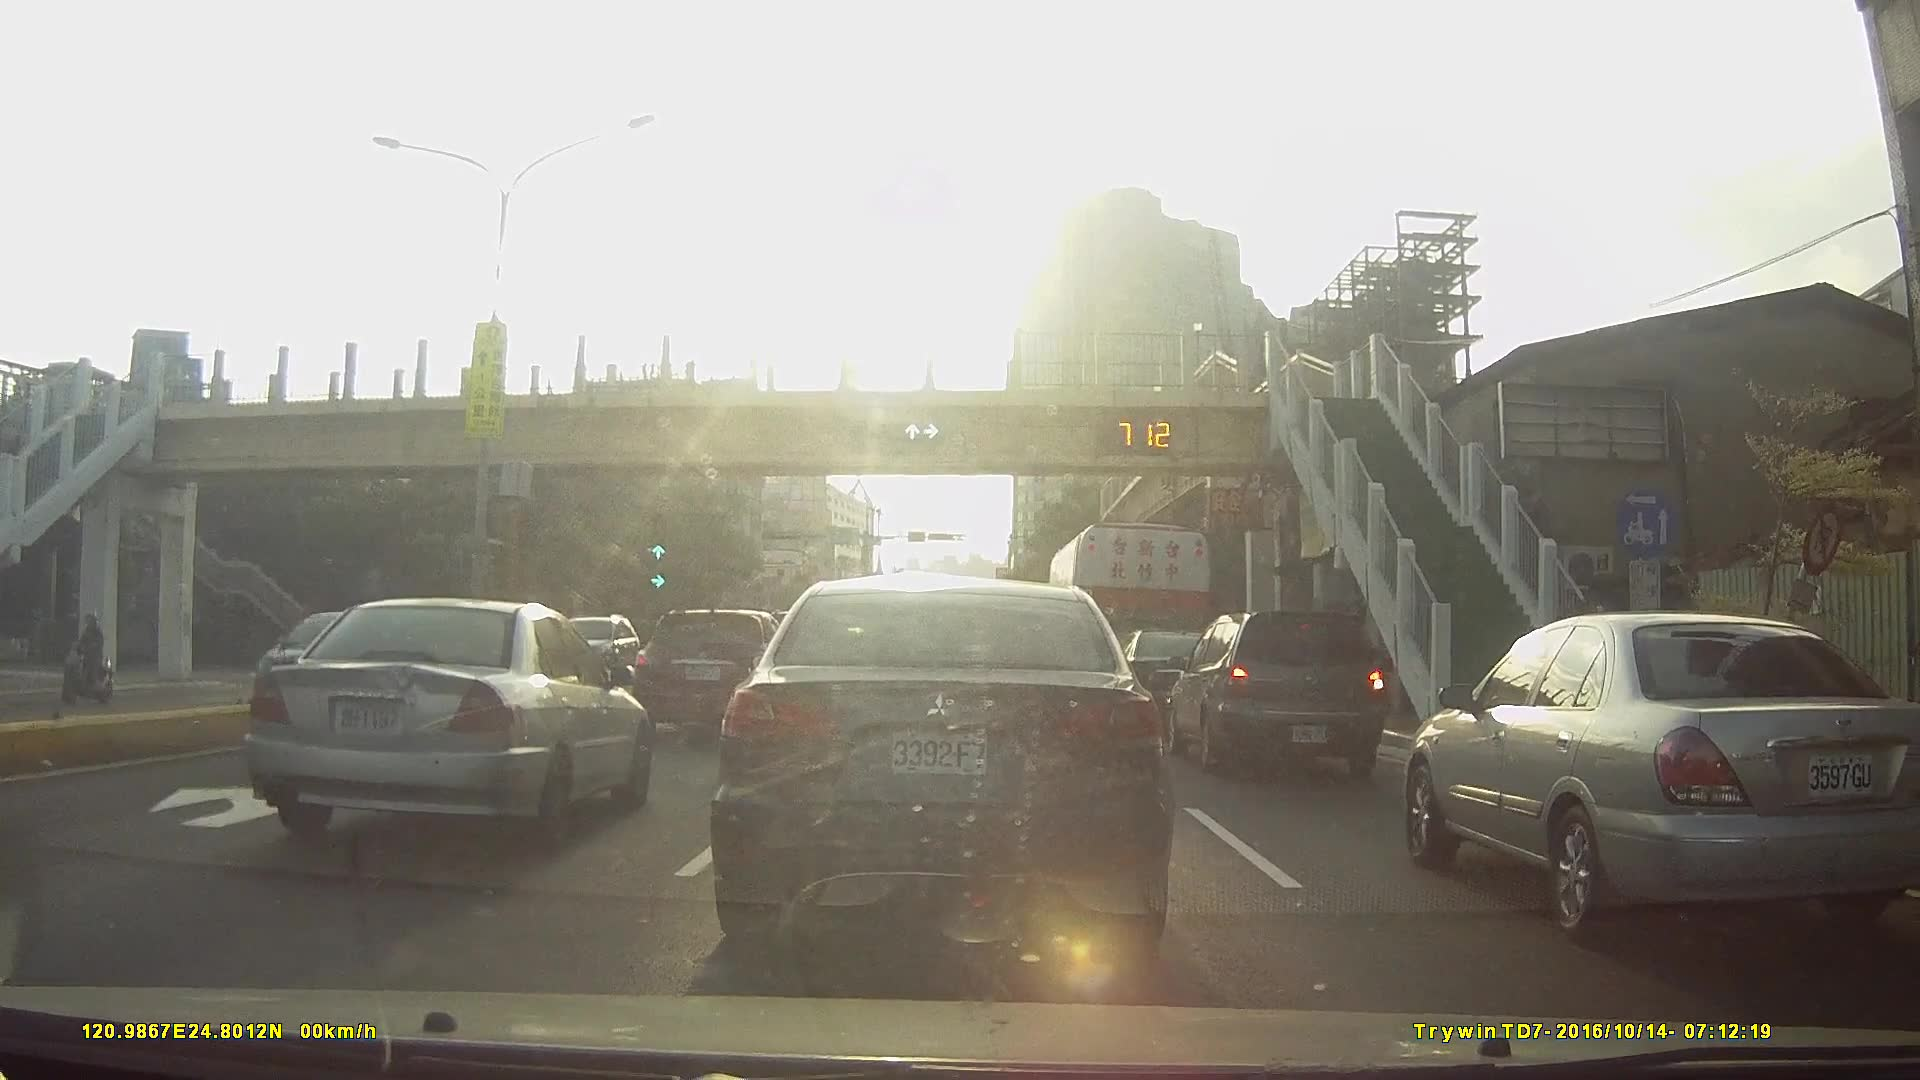rider: (62, 612, 113, 703)
vehicle: (708, 572, 1173, 969), (1400, 608, 1920, 941), (260, 595, 664, 838), (1163, 608, 1398, 779), (630, 607, 791, 731), (249, 607, 410, 713), (1106, 618, 1244, 725), (547, 610, 631, 673)
